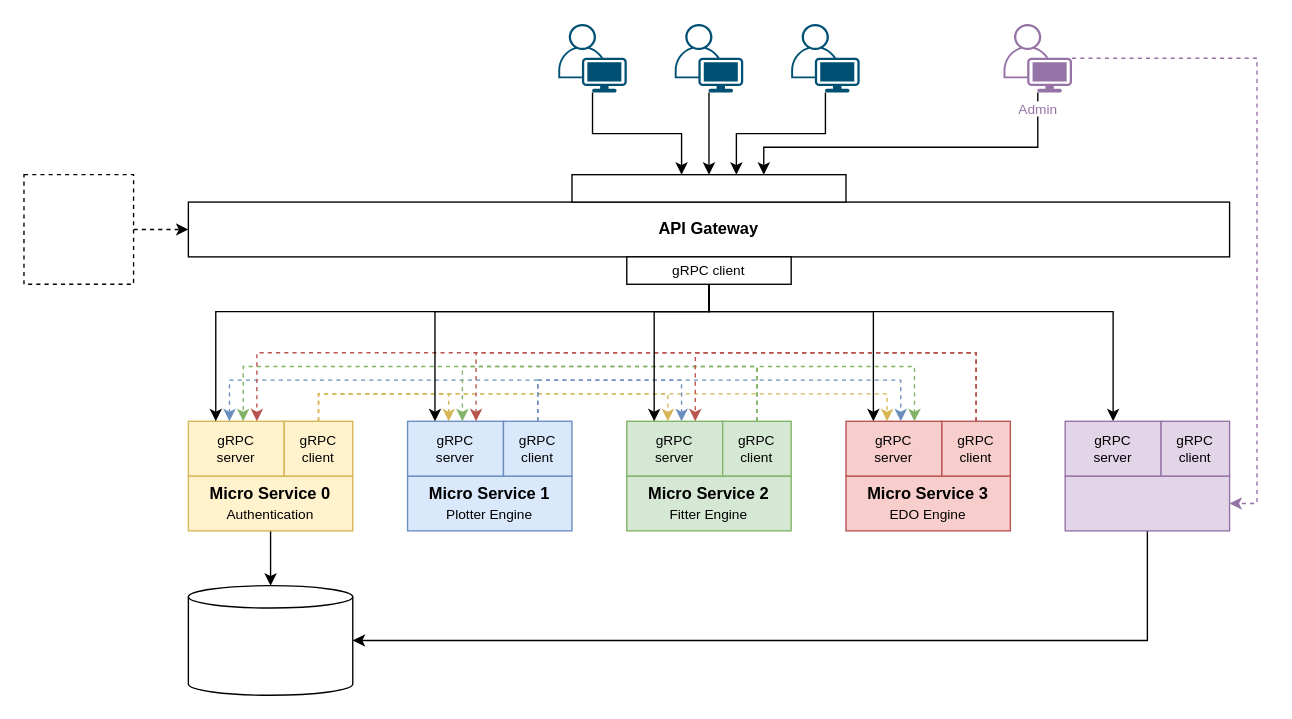
This 1292x719 diagram has some shape labels left out. The shapes that lost their labels are listed below. From the top down, each one's box as (x1, y1, x2, y2) in pixels, then its label:
(571, 173, 846, 202): Oauth2 + JWT Validation
(23, 173, 134, 284): Control Panel
(1064, 475, 1230, 531): Micro Service 4 Admin Manager
(187, 584, 353, 695): Unrelational Database Accounts
